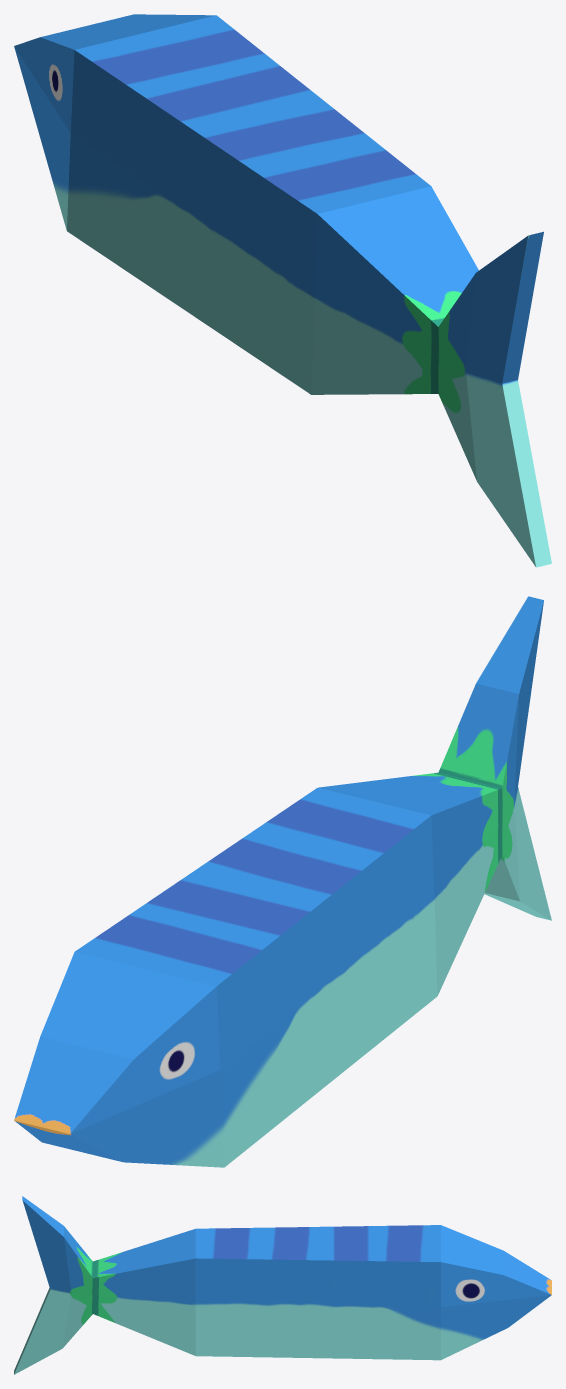
File: fish3-1.glb
The picture shows the model from 3 angles, top to bottom: view 1: azimuth 30°, elevation 25°; view 2: azimuth 150°, elevation 25°; view 3: azimuth 270°, elevation 25°; orthographic projection. The views are drawn at different scales.
Parts seen in each view (by area): view 1: Cube; view 2: Cube; view 3: Cube.
Boxes of the visible parts, box(x1,y1,x2,y2) form: Cube: box(14, 14, 551, 567); Cube: box(14, 596, 551, 1167); Cube: box(14, 1196, 551, 1374).
Bounding box in the file's own units: 2 × 3.96 × 11.04.
1 material, 1 textured.
